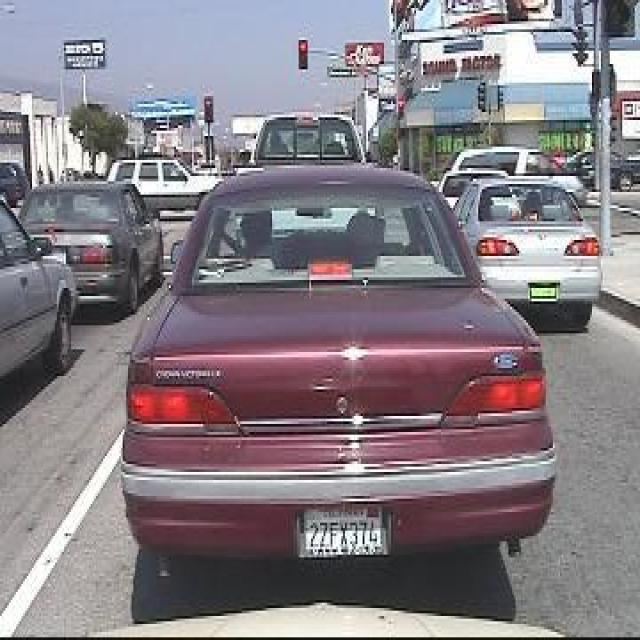car_back: (115, 153, 564, 584), (454, 157, 610, 329), (23, 171, 161, 318)
